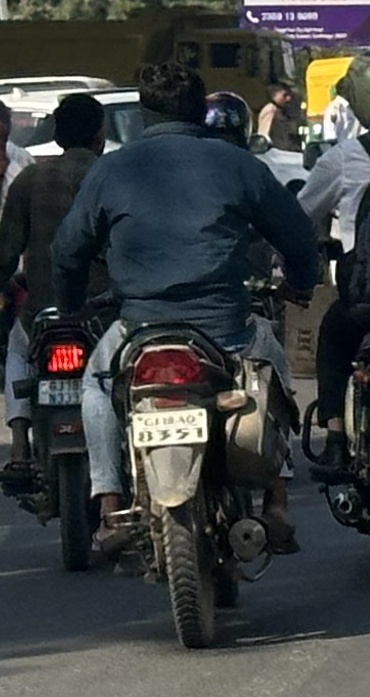BikeWithRider: (40, 50, 331, 658), (0, 83, 136, 580)
Helmet: (191, 84, 261, 155)
NoHelmet: (123, 51, 218, 145), (44, 85, 114, 163)
